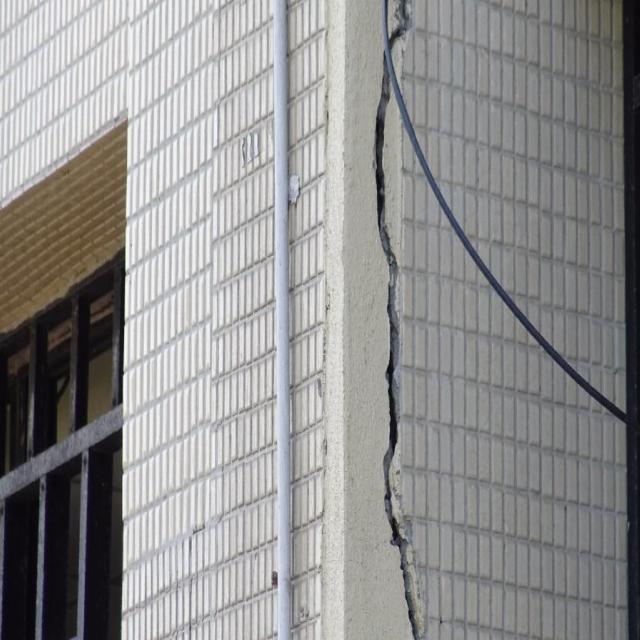Crack: (373, 0, 424, 640)
